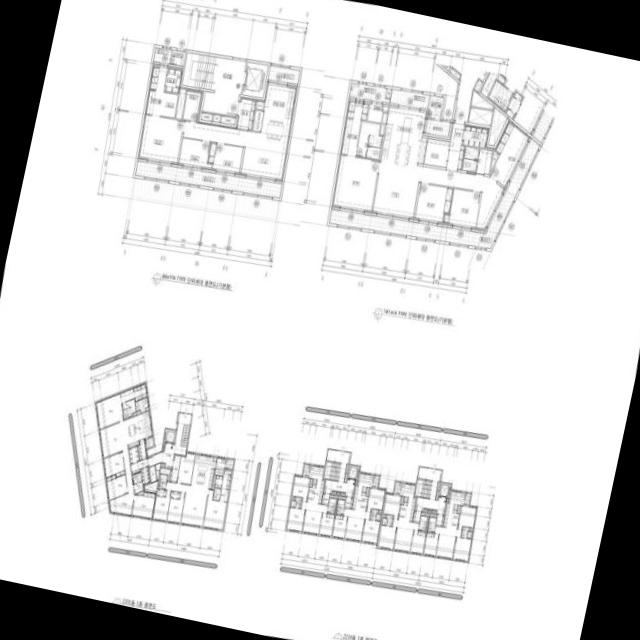background: (0, 0, 640, 640)
space_balconi: (329, 138, 539, 248), (135, 161, 282, 198), (349, 83, 389, 102), (390, 89, 429, 108), (267, 65, 300, 84), (153, 47, 171, 63), (145, 436, 154, 448), (225, 458, 233, 469)
space_bedroom: (332, 155, 379, 212), (490, 119, 529, 187), (138, 115, 183, 164), (443, 188, 481, 229), (415, 183, 453, 223), (207, 142, 243, 174), (179, 138, 212, 170), (95, 393, 123, 429), (203, 489, 227, 530), (424, 138, 449, 167), (131, 491, 156, 519), (177, 452, 195, 484), (105, 474, 127, 500), (167, 492, 185, 523), (153, 490, 171, 521), (103, 452, 125, 477), (291, 475, 310, 501), (286, 507, 305, 532), (383, 493, 401, 519), (377, 525, 396, 549), (361, 519, 380, 543), (366, 487, 385, 511), (457, 505, 476, 529), (453, 537, 471, 561), (410, 530, 425, 554), (423, 532, 438, 556), (319, 512, 334, 536), (332, 515, 347, 538), (156, 489, 166, 496), (170, 491, 180, 498)
space_dressroom: (340, 118, 360, 155), (148, 64, 167, 91), (164, 66, 182, 93), (346, 99, 369, 120), (133, 383, 147, 401), (221, 470, 231, 489), (214, 475, 222, 488)
space_elevator: (242, 62, 268, 97), (163, 429, 176, 443), (438, 483, 451, 497), (347, 465, 359, 480)
space_elevator_hall: (202, 57, 245, 116), (148, 413, 191, 467), (324, 449, 355, 496), (415, 467, 446, 514)
space_front: (446, 122, 464, 172), (236, 97, 256, 130), (462, 124, 489, 148), (169, 455, 180, 482), (130, 458, 148, 474), (129, 446, 139, 464), (141, 466, 150, 485), (412, 511, 421, 522), (344, 497, 353, 508), (436, 514, 444, 526), (321, 493, 329, 504)
space_kitchen: (381, 105, 427, 167), (260, 82, 297, 137), (124, 410, 152, 448), (190, 454, 216, 488), (443, 490, 465, 529), (352, 472, 374, 511), (398, 482, 416, 522), (307, 465, 325, 504)
space_living_room: (372, 162, 504, 230), (183, 121, 289, 181), (99, 421, 134, 515), (165, 482, 208, 527), (434, 526, 461, 559), (343, 508, 370, 541), (392, 519, 419, 552), (301, 501, 327, 534)
space_multipurpose_space: (367, 102, 388, 122)
space_other: (452, 66, 487, 122), (488, 107, 507, 145), (425, 118, 450, 137), (468, 107, 493, 125), (471, 90, 493, 109), (175, 87, 186, 119), (252, 110, 263, 131), (135, 397, 148, 413), (215, 457, 226, 475), (137, 439, 146, 460), (490, 151, 498, 171), (144, 480, 158, 491), (380, 112, 387, 134), (160, 467, 170, 480), (450, 68, 460, 80), (220, 116, 235, 124), (149, 465, 156, 482), (200, 112, 212, 121), (474, 79, 482, 91), (155, 463, 160, 480), (256, 99, 264, 109), (212, 114, 220, 122), (344, 465, 348, 481), (435, 483, 439, 499), (386, 88, 391, 98), (212, 475, 215, 489), (132, 410, 140, 415), (429, 513, 437, 517), (329, 494, 337, 498), (400, 496, 404, 504), (338, 495, 345, 499), (136, 491, 143, 495), (162, 443, 165, 451), (457, 505, 460, 513), (366, 487, 369, 495), (421, 512, 428, 515), (309, 479, 312, 486), (213, 456, 217, 461), (145, 407, 149, 411), (340, 492, 345, 495), (432, 510, 436, 513), (427, 509, 431, 512), (331, 491, 336, 493), (379, 510, 382, 513), (382, 514, 385, 517), (161, 463, 164, 466), (470, 528, 473, 531), (291, 496, 294, 499), (336, 492, 340, 494), (423, 509, 427, 511), (355, 481, 357, 483), (446, 499, 448, 501)
space_outdoor_room: (428, 95, 443, 119), (170, 50, 185, 66), (464, 492, 471, 505), (394, 481, 401, 494), (302, 464, 309, 476), (372, 475, 379, 487)
space_staircase: (182, 52, 220, 90), (324, 461, 341, 480), (415, 479, 432, 498), (180, 424, 189, 447)
space_toilet: (356, 121, 382, 159), (145, 90, 178, 117), (182, 91, 200, 121), (475, 149, 492, 174), (122, 399, 136, 419), (120, 388, 134, 402), (462, 158, 477, 171), (464, 147, 479, 160), (327, 498, 336, 513), (427, 517, 436, 532), (158, 474, 167, 489), (336, 499, 345, 514), (419, 515, 427, 530), (133, 481, 143, 493), (219, 489, 228, 501), (370, 509, 379, 520), (385, 514, 393, 526), (461, 527, 470, 537), (294, 497, 302, 508), (136, 472, 142, 482), (212, 493, 220, 500), (132, 473, 137, 484), (213, 488, 221, 494), (375, 513, 380, 520), (466, 531, 471, 538), (382, 518, 387, 525), (291, 500, 296, 507)
